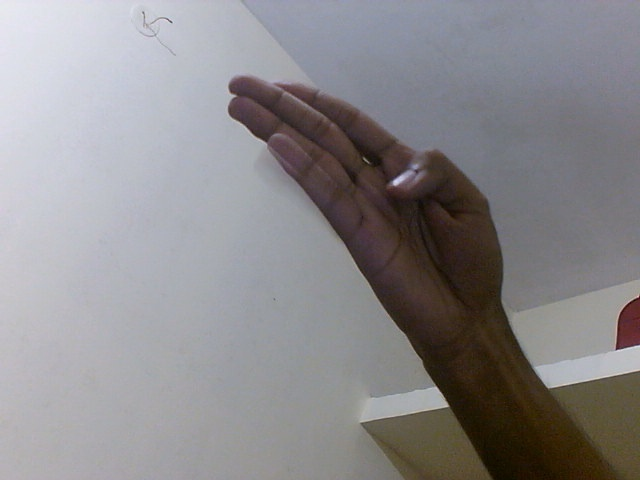hand: (226, 68, 509, 365)
